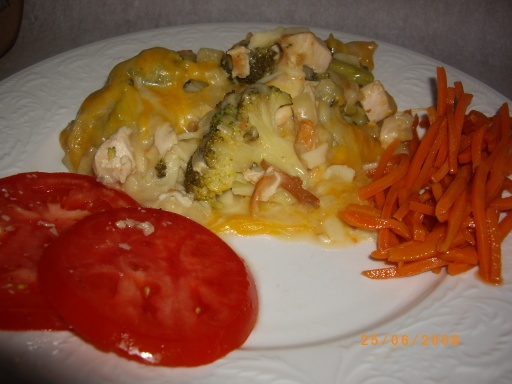background: (0, 15, 410, 220)
